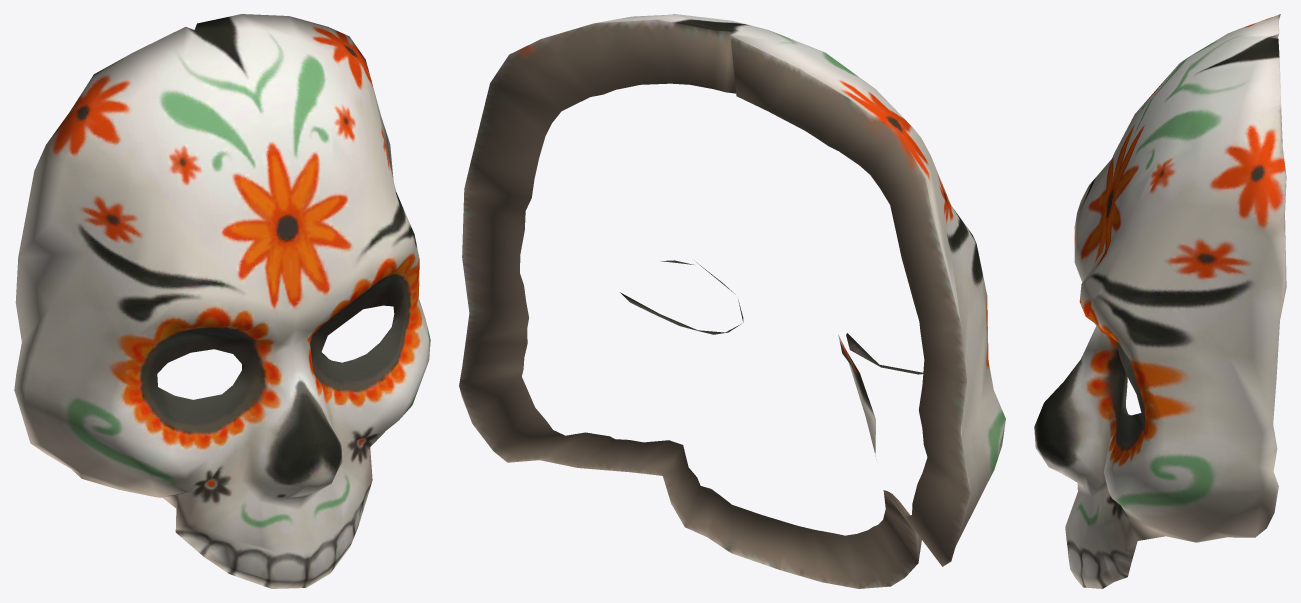
File: DeadSkull.glb
3 views of the same model, side by side, from view 1: azimuth 30°, elevation 25°; view 2: azimuth 150°, elevation 25°; view 3: azimuth 270°, elevation 25° (orthographic). The views are drawn at different scales.
Visible parts, largest first — view 1: DDLM_DeadSkull; view 2: DDLM_DeadSkull; view 3: DDLM_DeadSkull.
Boxes of the visible parts, x1,y1,x2,y2 form: DDLM_DeadSkull: [14, 14, 430, 588]; DDLM_DeadSkull: [459, 14, 1005, 588]; DDLM_DeadSkull: [1034, 14, 1286, 588].
Bounding box in the file's own units: 0.1821 × 0.2236 × 0.096.
1 material, 1 textured.
